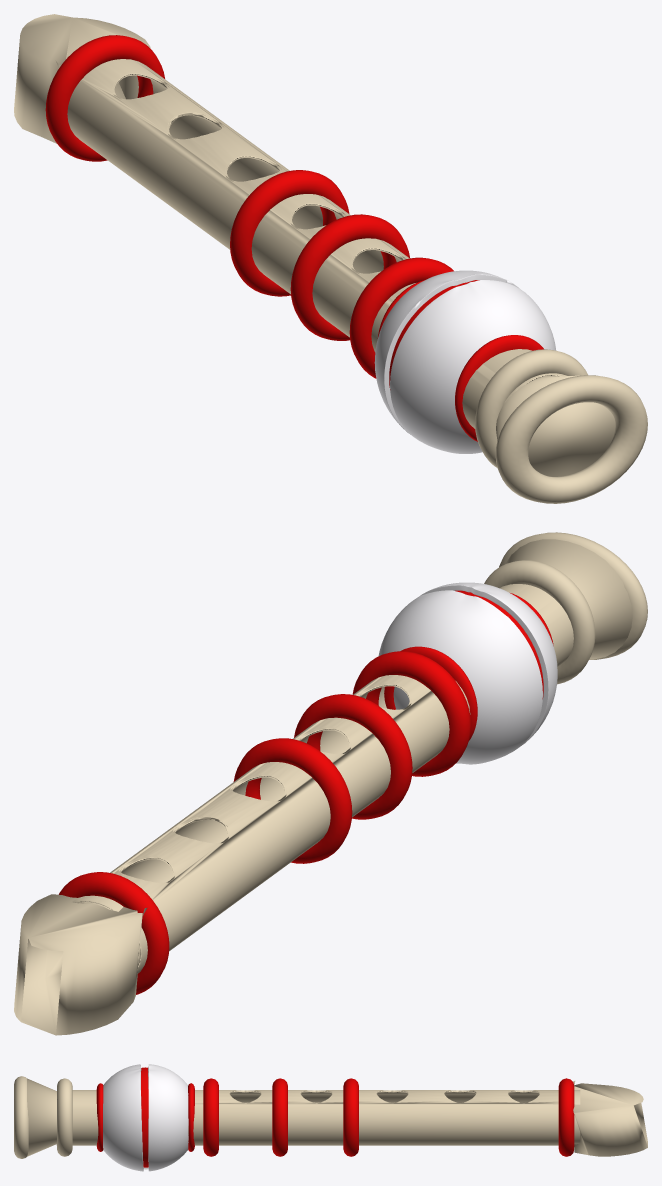
File: pokeFlute2.fbx
3 views of the same model, one above another, from view 1: azimuth 30°, elevation 25°; view 2: azimuth 150°, elevation 25°; view 3: azimuth 270°, elevation 25° (orthographic). The views are drawn at different scales.
Visible parts, largest first — view 1: Cylinder.002, Sphere, Torus.007, Cylinder.007, Cone, Torus.003, Torus.002, Torus.001, Torus.006, Cylinder, Torus, Torus.005; view 2: Cylinder.002, Sphere, Cylinder.007, Cone, Torus.002, Torus.001, Torus, Torus.006, Torus.003, Cylinder, Torus.007, Torus.004; view 3: Cylinder, Sphere, Cylinder.007, Cone, Torus.003, Torus.001, Torus.006, Torus, Torus.002, Cylinder.002, Torus.007, Sphere.001 (+2 smaller).
Boxes of the visible parts, x1,y1,x2,y2 form: Cylinder.002: (67,60,564,428); Sphere: (374,270,556,453); Torus.007: (495,375,647,503); Cylinder.007: (14,14,150,143); Cone: (496,375,615,476); Torus.003: (45,35,164,161); Torus.002: (230,170,349,296); Torus.001: (290,214,410,340); Torus.006: (475,349,587,467); Cylinder: (112,59,566,389); Torus: (349,257,453,378); Torus.005: (455,335,543,441); Cylinder.002: (75,585,573,973); Sphere: (378,582,557,764); Cylinder.007: (14,894,147,1035); Cone: (505,539,632,659); Torus.002: (233,738,352,863); Torus.001: (294,694,412,819); Torus: (352,651,470,776); Torus.006: (484,560,595,684); Torus.003: (59,872,169,994); Cylinder: (72,584,528,965); Torus.007: (499,532,647,659); Torus.004: (384,646,477,740); Cylinder: (56,1090,580,1145); Sphere: (103,1064,188,1171); Cylinder.007: (573,1081,647,1156); Cone: (27,1078,56,1156); Torus.003: (558,1078,574,1156); Torus.001: (272,1078,287,1156); Torus.006: (57,1078,72,1156); Torus: (203,1078,218,1156); Torus.002: (343,1078,358,1156); Cylinder.002: (72,1090,580,1103); Torus.007: (14,1076,28,1158); Sphere.001: (141,1067,148,1167).
Bounding box in the file's own units: 197 × 200 × 1174.
